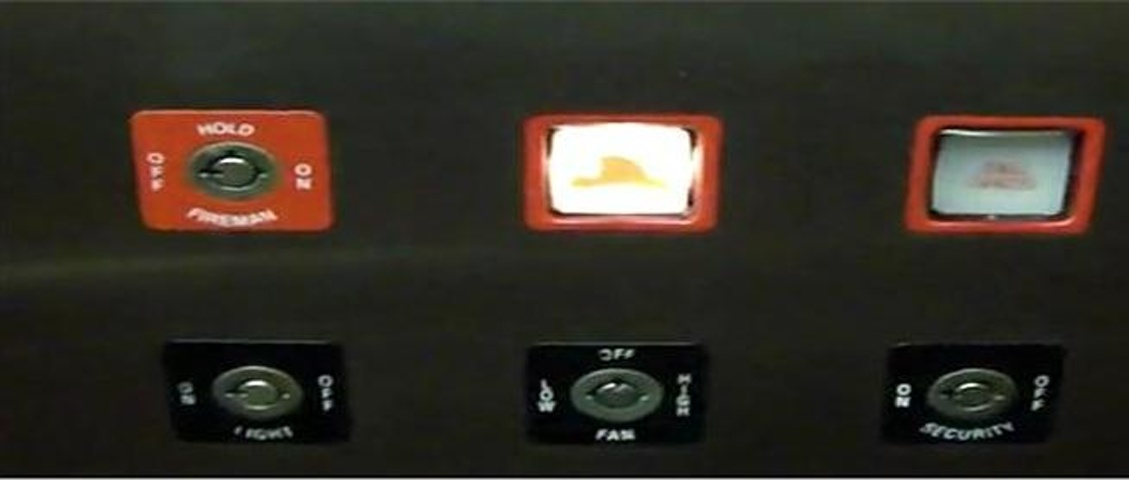bt_keyhole: (123, 106, 332, 235), (876, 341, 1076, 457), (157, 343, 352, 454), (517, 343, 710, 448)
hat: (903, 108, 1103, 237), (519, 112, 719, 235)
